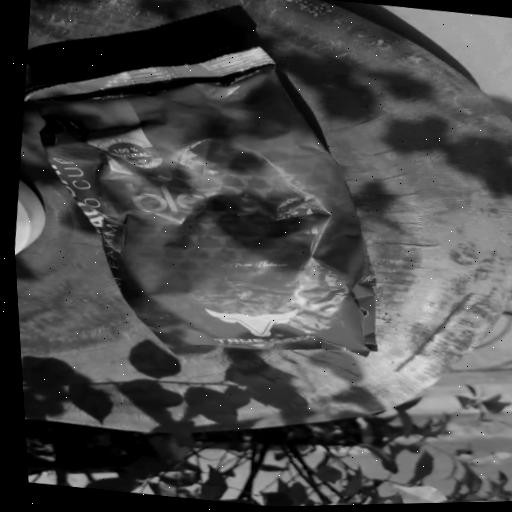cafe_xay: (23, 46, 376, 358)
